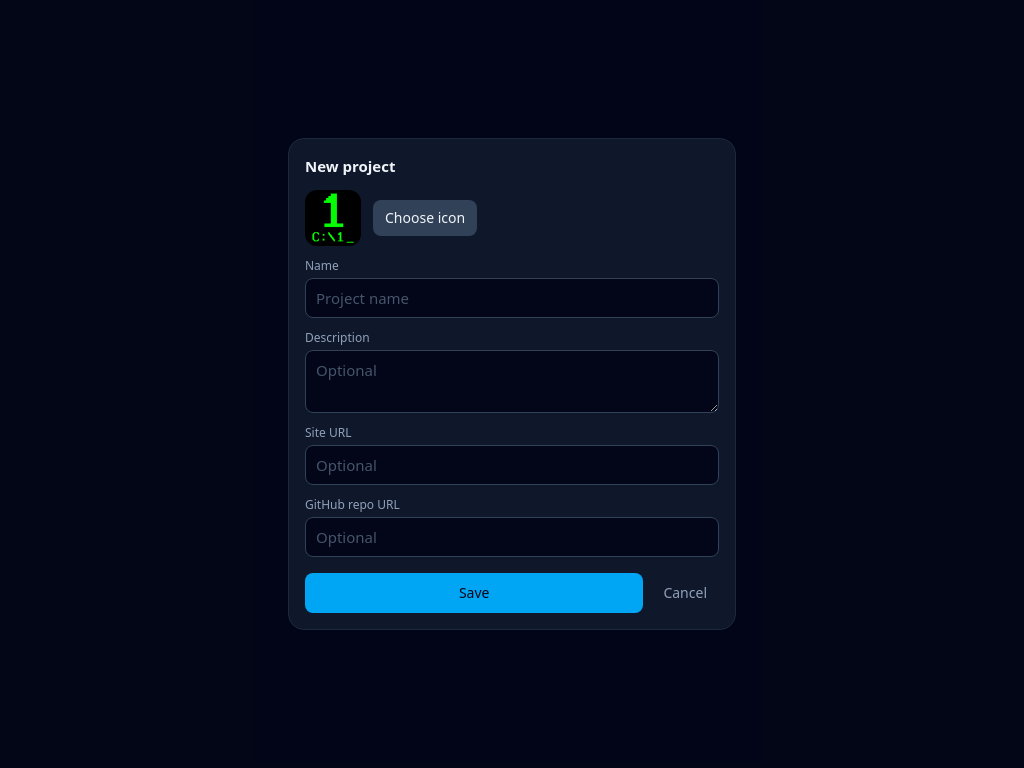
it: ProjectEditor › renders a field-specific validation error returned by the hub
The image size is (1024, 768).
Type "New project" into the field with placeholder "Project name".
click(512, 298); type("New project")  # box x1=305 y1=278 x2=719 y2=318
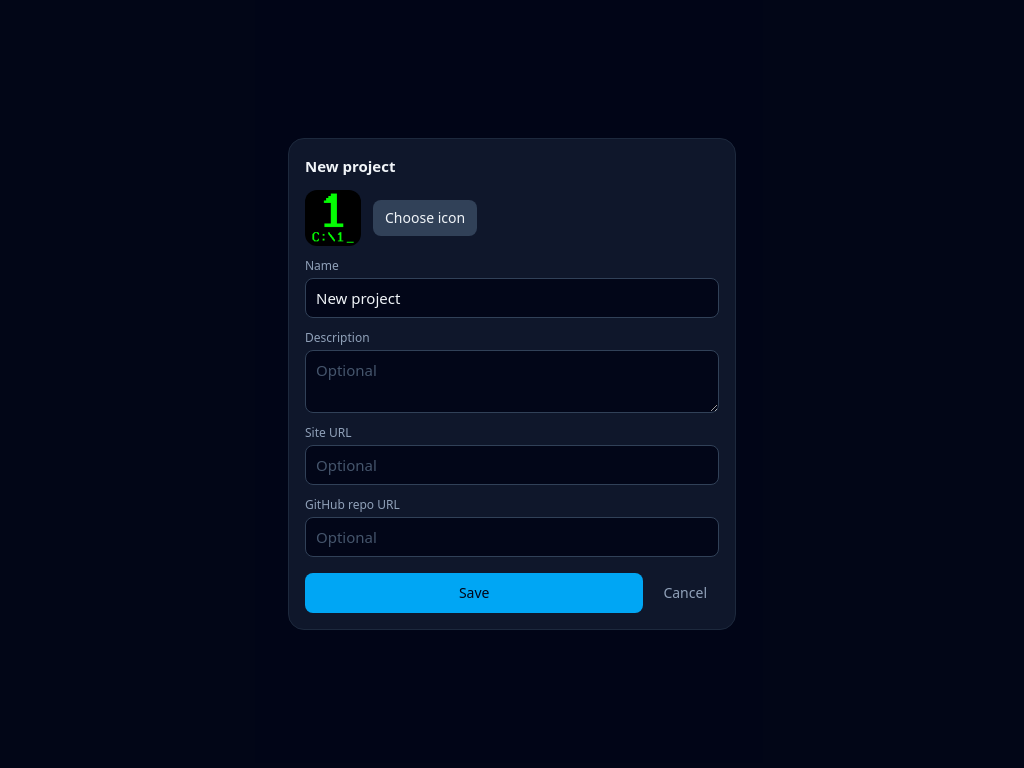
Click the button "Save".
click(474, 593)  # box x1=305 y1=573 x2=643 y2=613
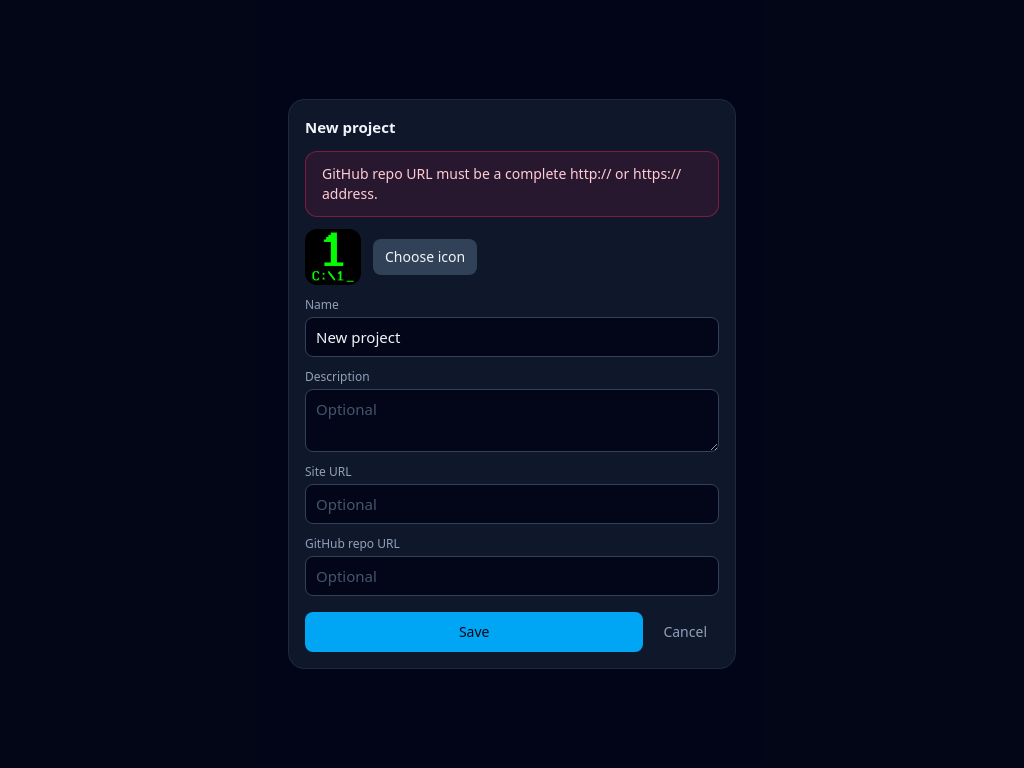
Now the text "GitHub repo URL must be a complete http:// or https:// address." is shown, box x1=322 y1=164 x2=702 y2=204
